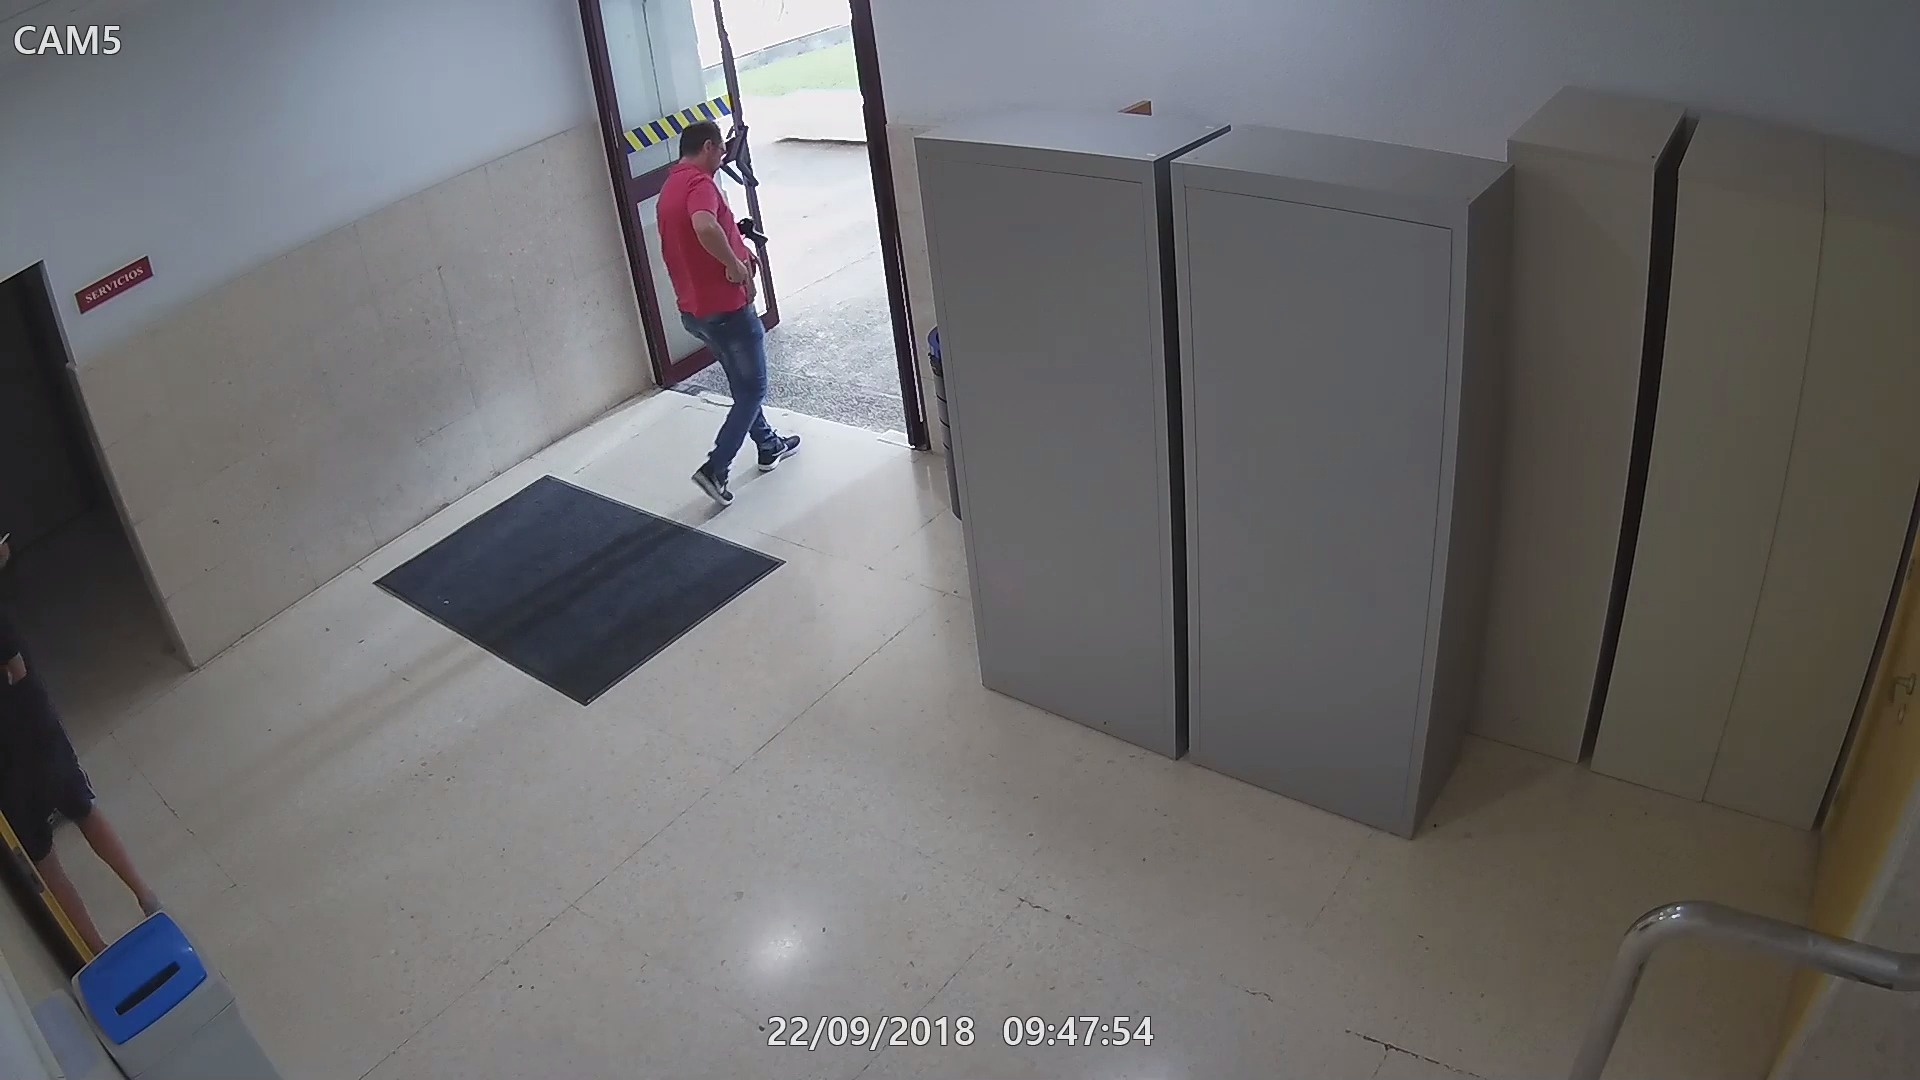Handgun: (723, 248, 757, 305)
Short_rifle: (733, 218, 769, 253)
